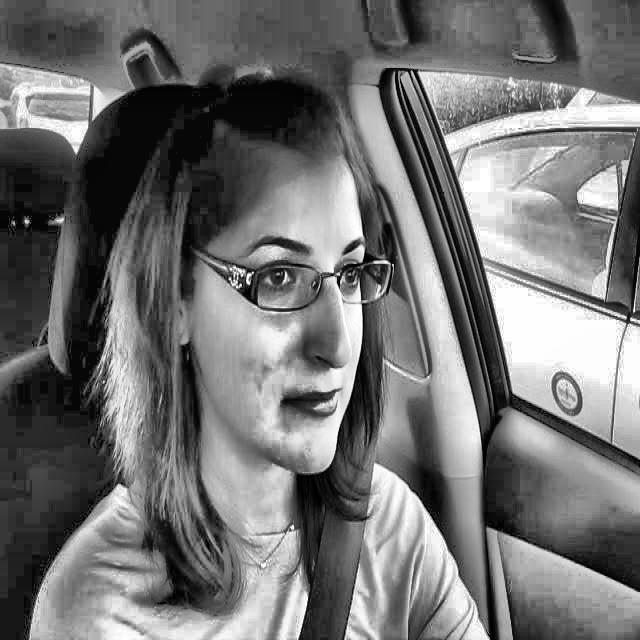closed_mouth: (266, 372, 370, 441)
open_eyes: (249, 253, 304, 305), (323, 259, 380, 301)
